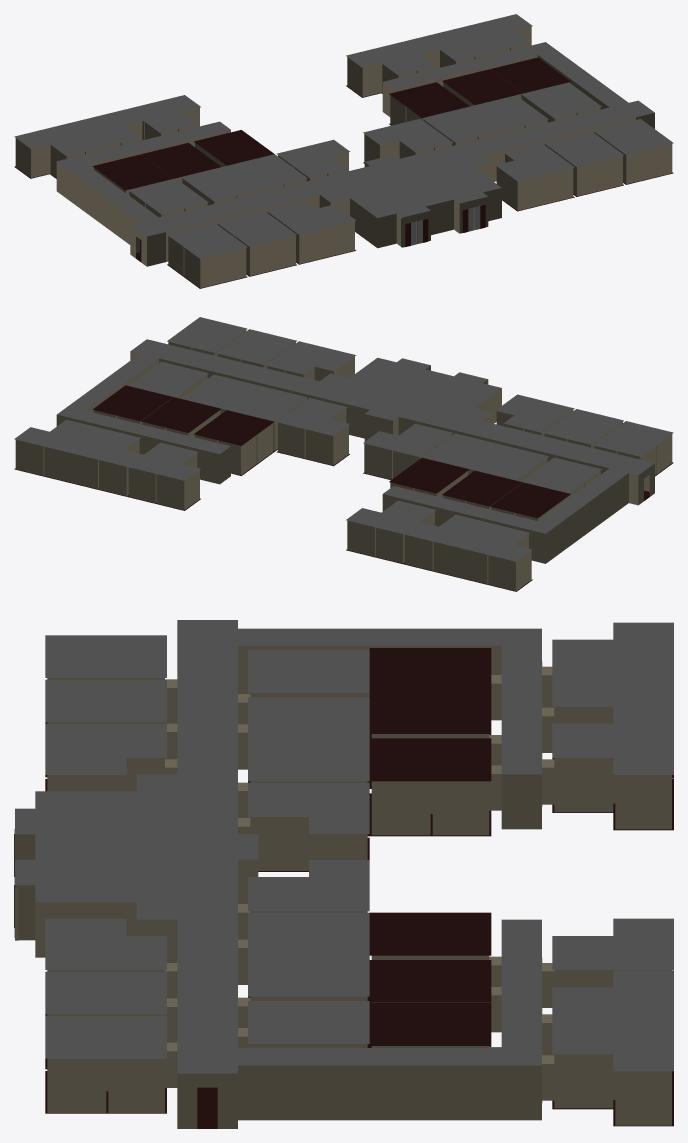
The model's file is HotelCOmpleto.FBX.
3 views of the same model, one above another, from view 1: azimuth 30°, elevation 25°; view 2: azimuth 150°, elevation 25°; view 3: azimuth 270°, elevation 25° (orthographic). The views are drawn at different scales.
Parts seen in each view (by area): view 1: RoomB.008; view 2: RoomB.008; view 3: RoomB.008.
Part boxes in pixels (x1,y1,x2,y2): RoomB.008: (14,14,673,288); RoomB.008: (14,317,673,591); RoomB.008: (14,620,673,1128).
Bounding box in the file's own units: 5297 × 300 × 3256.
